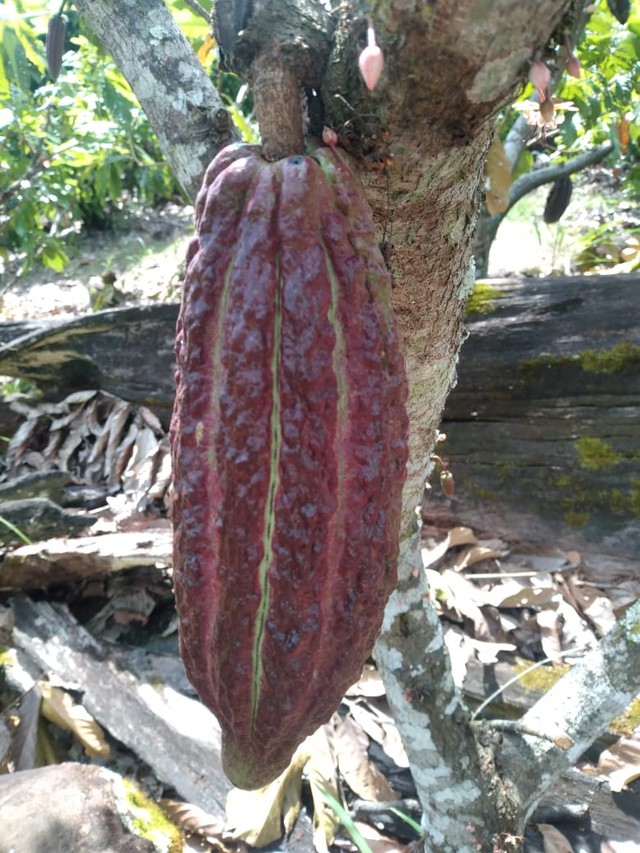Health: (148, 112, 422, 805)
